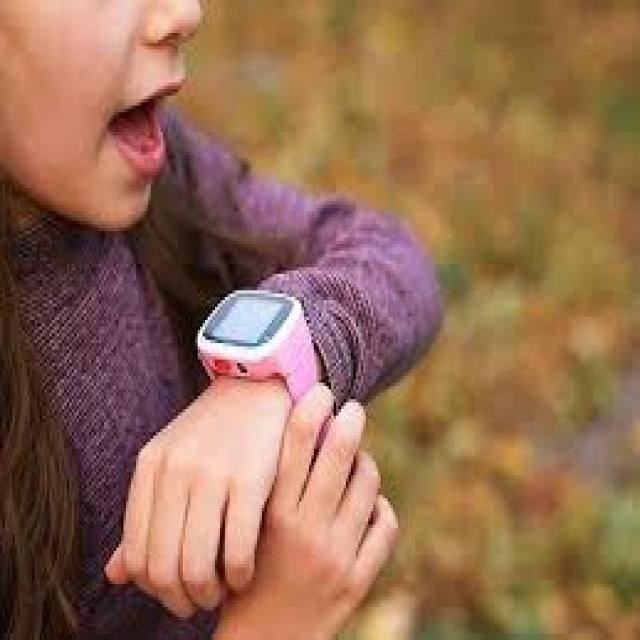objects: (188, 281, 317, 398)
